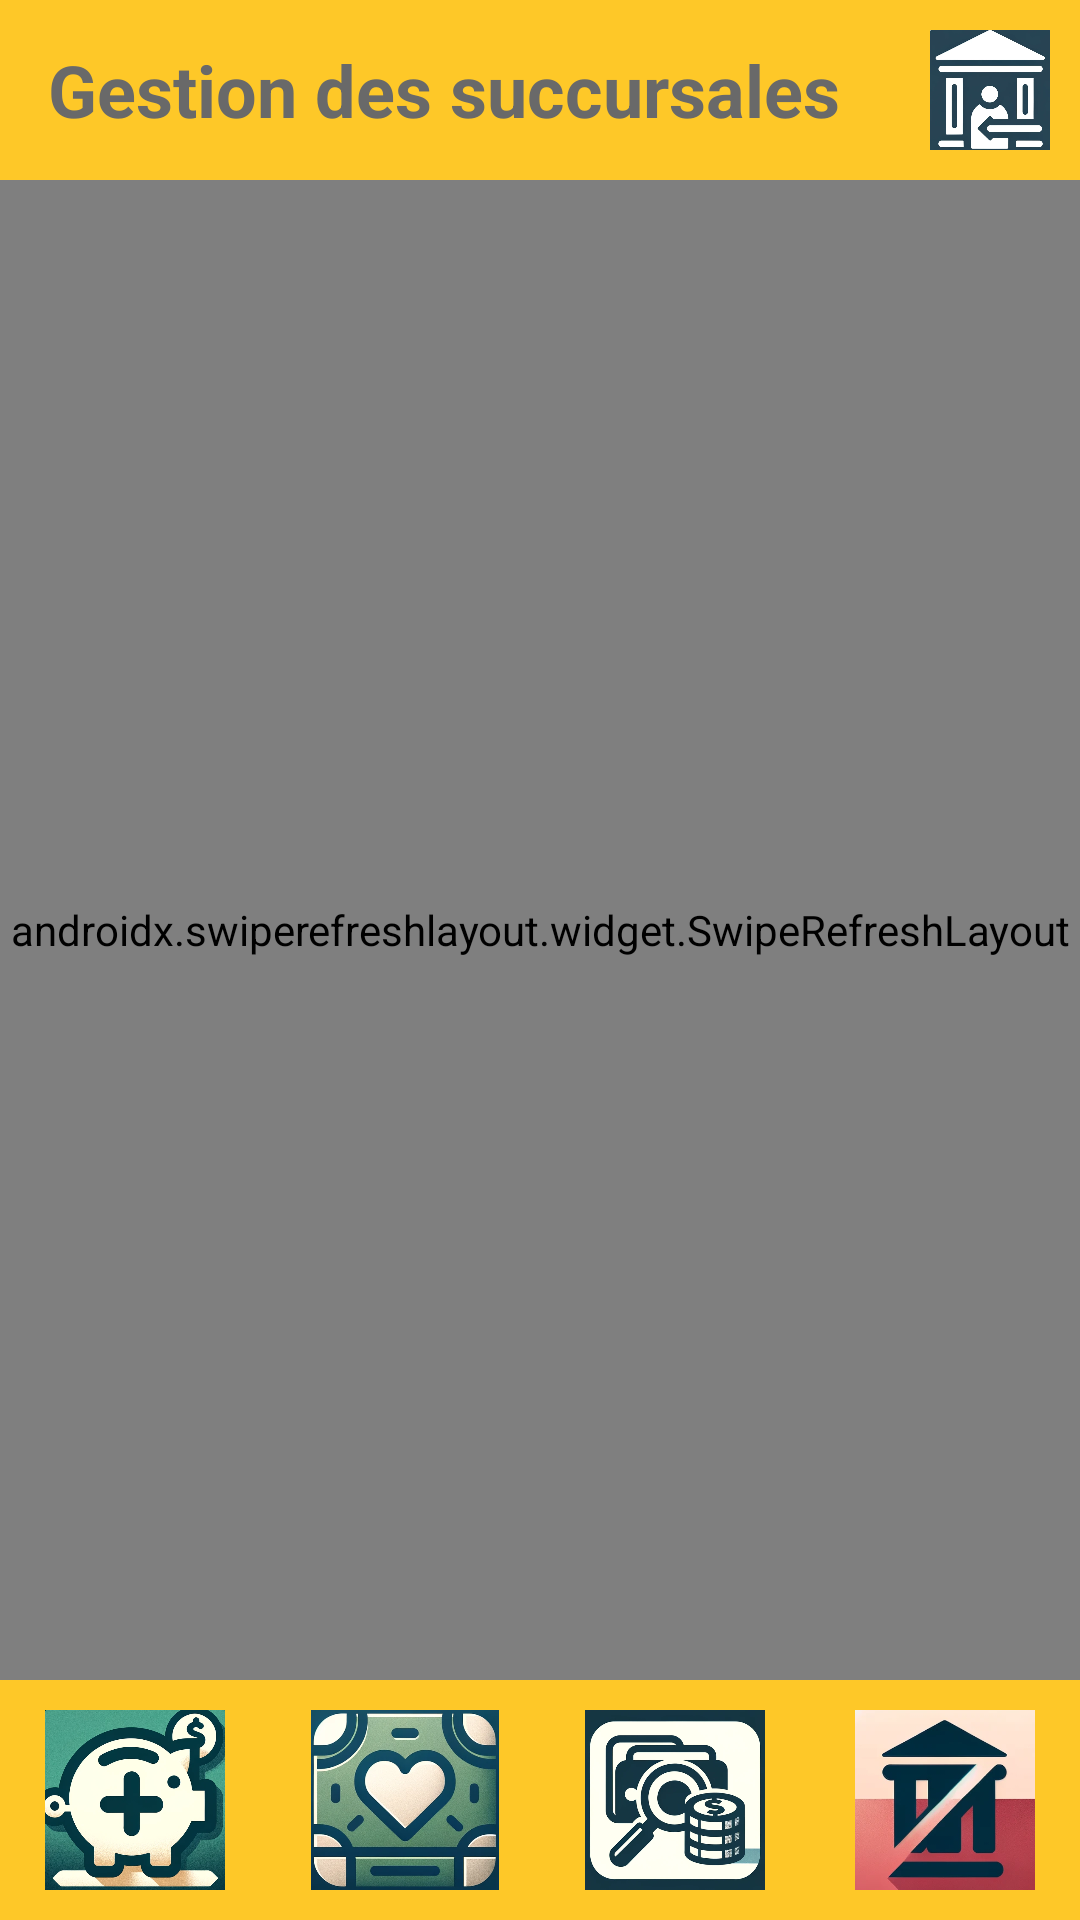

Icon bounding boxes for this 1080w x 1920h phone screenshot, format (x1, y1, x2, y2):
add branch: (45, 1710, 225, 1890)
delete all branch: (855, 1710, 1035, 1890)
show budget: (585, 1710, 765, 1890)
show fav: (311, 1710, 499, 1890)
